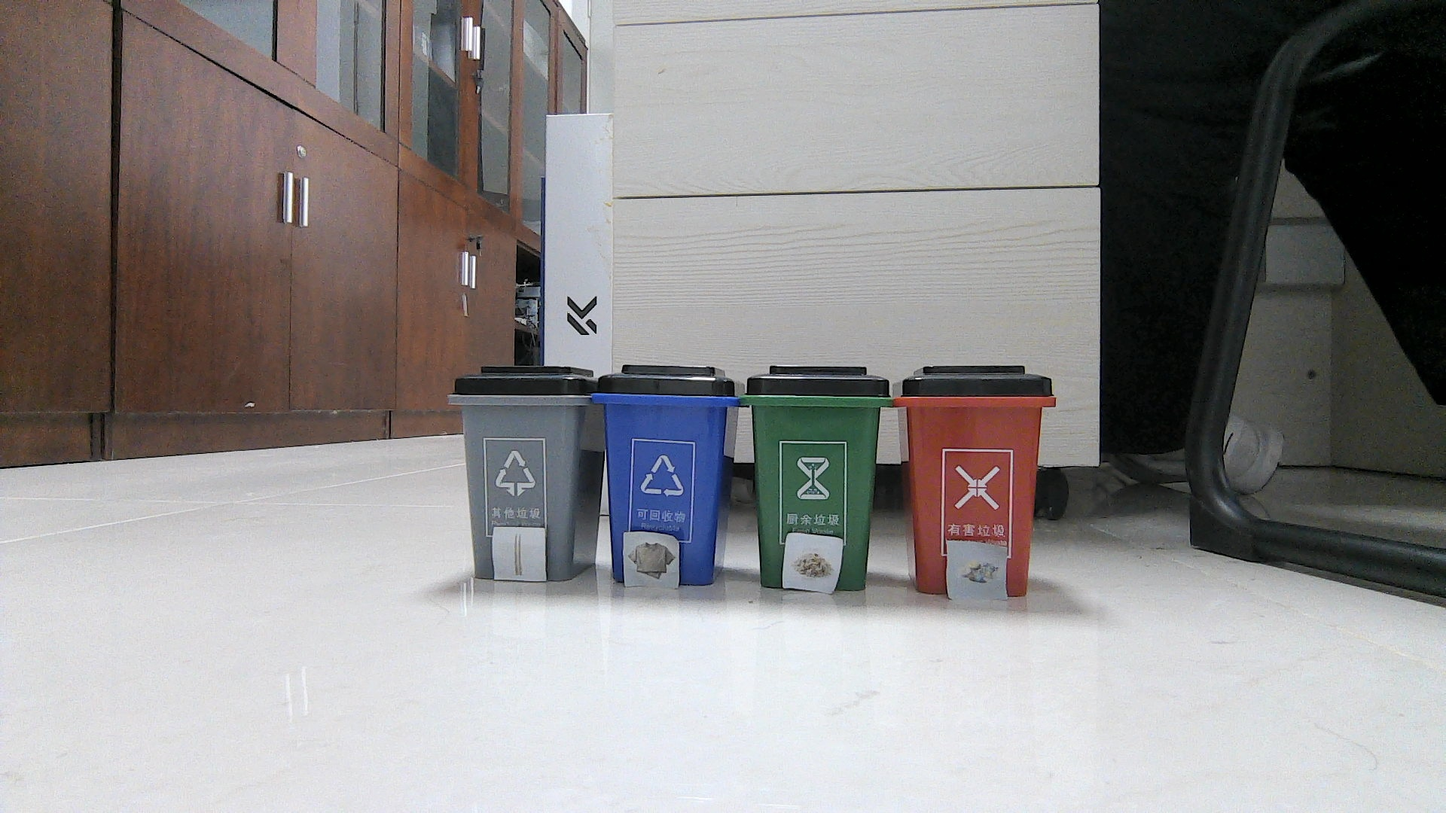food_trash: (785, 536, 842, 591)
hazardous_trash: (950, 543, 1002, 598)
other_trash: (493, 528, 540, 586)
recyclable_trash: (624, 531, 681, 586)
